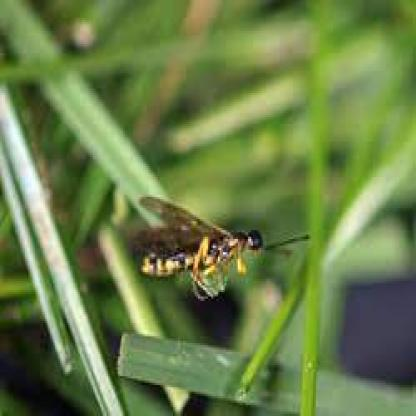sawfly: (121, 187, 314, 292)
